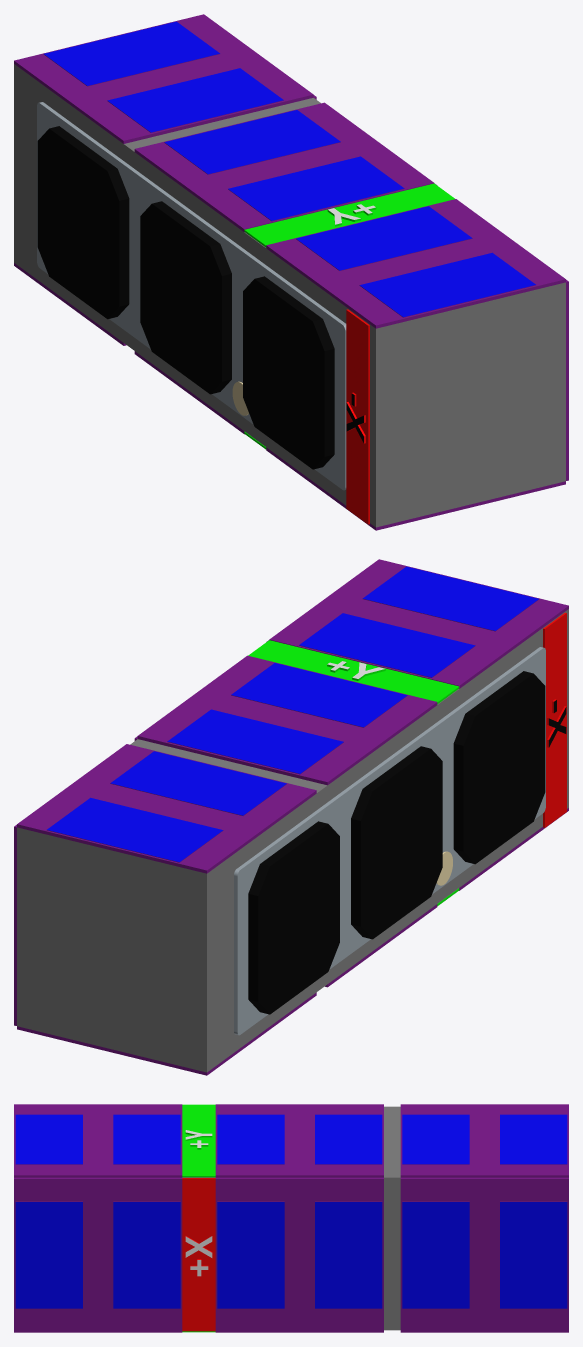
The model's file is 3U_Simplified_Model.obj.
3 views of the same model, one above another, from view 1: azimuth 30°, elevation 25°; view 2: azimuth 150°, elevation 25°; view 3: azimuth 270°, elevation 25° (orthographic). The views are drawn at different scales.
Parts seen in each view (by area): view 1: mesh133, mesh5, mesh4, mesh15, mesh131, mesh38, mesh29, mesh47, mesh18, mesh60, mesh105, mesh9 (+7 smaller); view 2: mesh134, mesh5, mesh4, mesh15, mesh131, mesh47, mesh29, mesh38, mesh18, mesh60, mesh105, mesh7 (+7 smaller); view 3: mesh5, mesh4, mesh15, mesh140, mesh129, mesh105, mesh8, mesh6, mesh130, mesh142.
Boxes of the visible parts, <box> form: mesh133: <box>376,282,565,527</box>; mesh5: <box>14,14,565,325</box>; mesh4: <box>107,68,535,317</box>; mesh15: <box>44,21,472,270</box>; mesh131: <box>14,64,375,527</box>; mesh38: <box>37,128,119,318</box>; mesh29: <box>140,204,221,394</box>; mesh47: <box>243,279,324,469</box>; mesh18: <box>37,103,345,490</box>; mesh60: <box>346,310,368,524</box>; mesh105: <box>244,183,454,245</box>; mesh9: <box>123,94,568,530</box>; mesh134: <box>17,827,206,1072</box>; mesh5: <box>17,559,568,870</box>; mesh4: <box>110,566,538,815</box>; mesh15: <box>47,613,475,862</box>; mesh131: <box>207,609,568,1072</box>; mesh47: <box>463,673,545,863</box>; mesh29: <box>361,749,442,939</box>; mesh38: <box>258,824,339,1014</box>; mesh18: <box>237,648,545,1035</box>; mesh60: <box>545,613,566,827</box>; mesh105: <box>248,640,458,702</box>; mesh7: <box>14,639,458,1075</box>; mesh5: <box>14,1104,568,1331</box>; mesh4: <box>15,1114,469,1308</box>; mesh15: <box>113,1114,567,1308</box>; mesh140: <box>182,1178,215,1331</box>; mesh129: <box>182,1177,400,1330</box>; mesh105: <box>182,1104,215,1175</box>; mesh8: <box>14,1177,568,1332</box>; mesh6: <box>14,1175,568,1177</box>; mesh130: <box>182,1106,400,1177</box>; mesh142: <box>185,1236,212,1257</box>.
Size of the model in its own units: 0.1096 by 0.1046 by 0.33.
